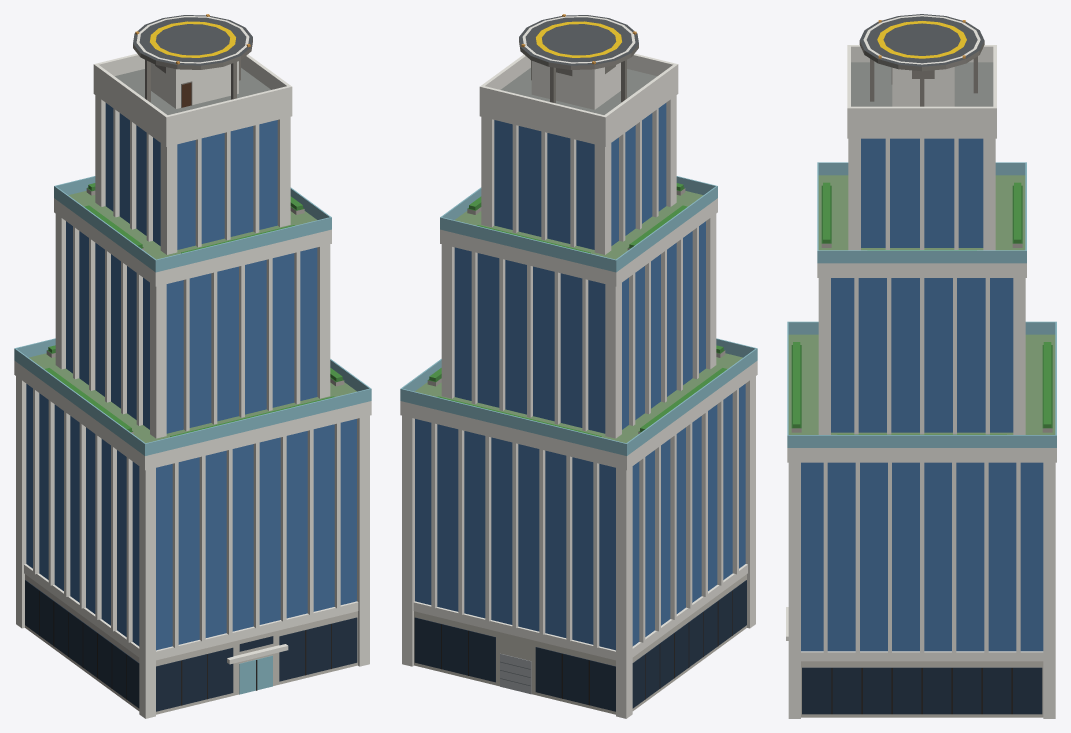
The model's file is gedung_03.glb.
3 renders of one model, left to right at view 1: azimuth 30°, elevation 25°; view 2: azimuth 150°, elevation 25°; view 3: azimuth 270°, elevation 25°, orthographic. The views are drawn at different scales.
Visible parts, largest first — view 1: gedung_03; view 2: gedung_03; view 3: gedung_03.
Part boxes in pixels (bbox=[...]): gedung_03: bbox=[14, 14, 371, 718]; gedung_03: bbox=[400, 14, 757, 718]; gedung_03: bbox=[786, 14, 1056, 718].
Bounding box in the file's own units: 21.6 × 55.18 × 21.7.
